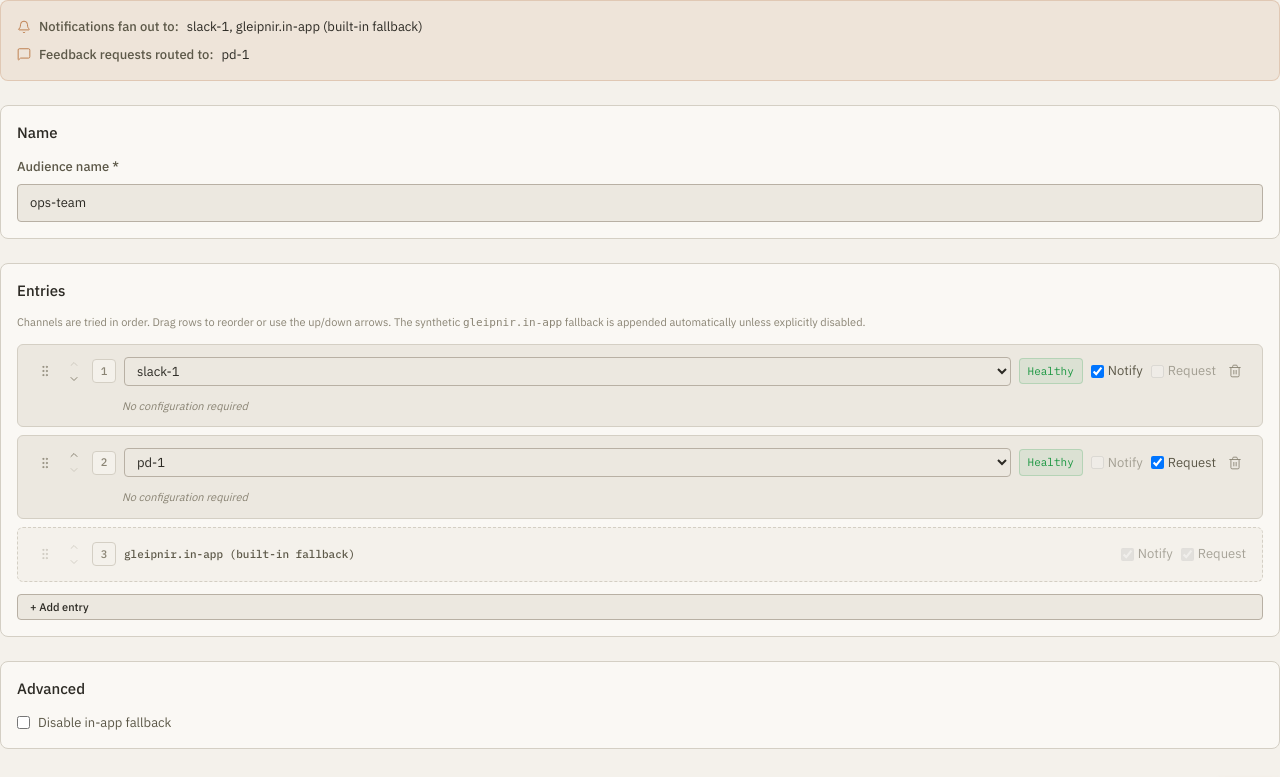
Test: AudienceEditor — add entry › appends a new blank entry when + Add entry is clicked
This screenshot has width=1280, height=777.
Click the button "+ Add entry" at (59, 606), box [17, 594, 1263, 620]
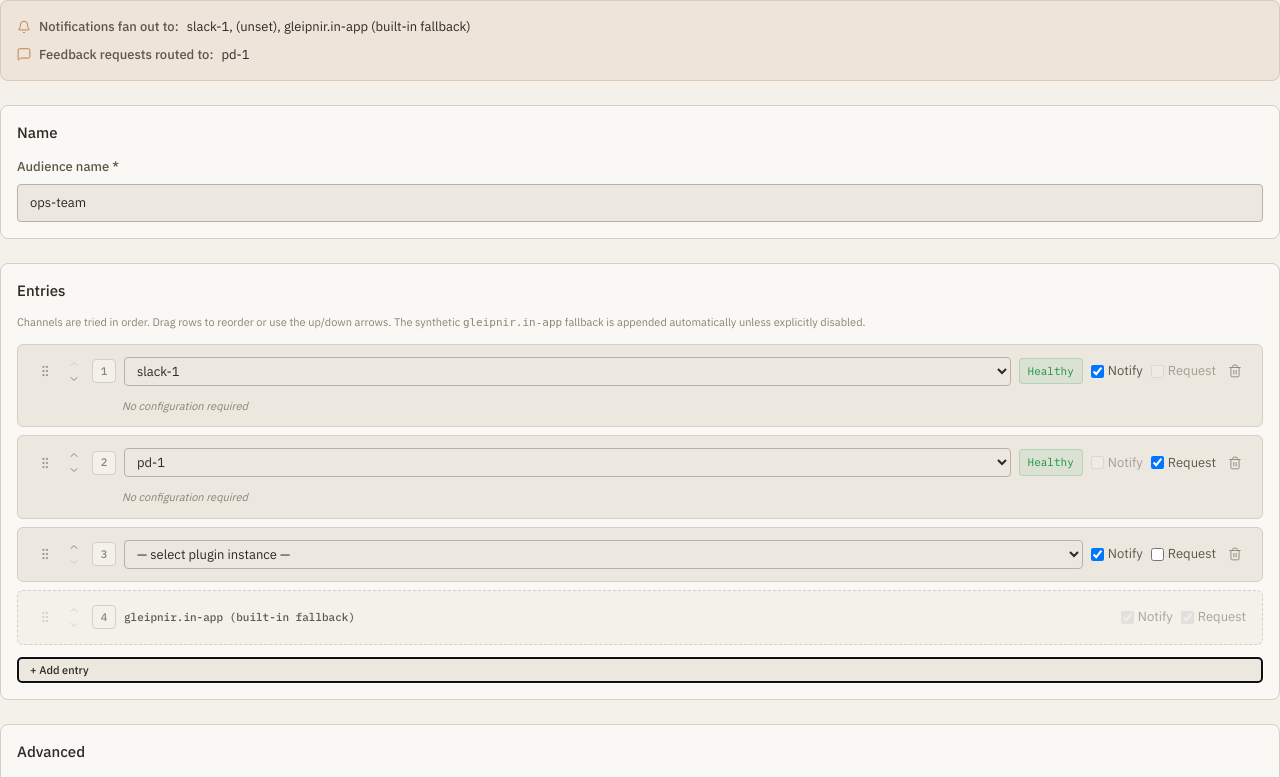
Check: the number of buttons named "remove entry" is 3, box [1224, 360, 1246, 382]; [1224, 452, 1246, 474]; [1224, 543, 1246, 565]
